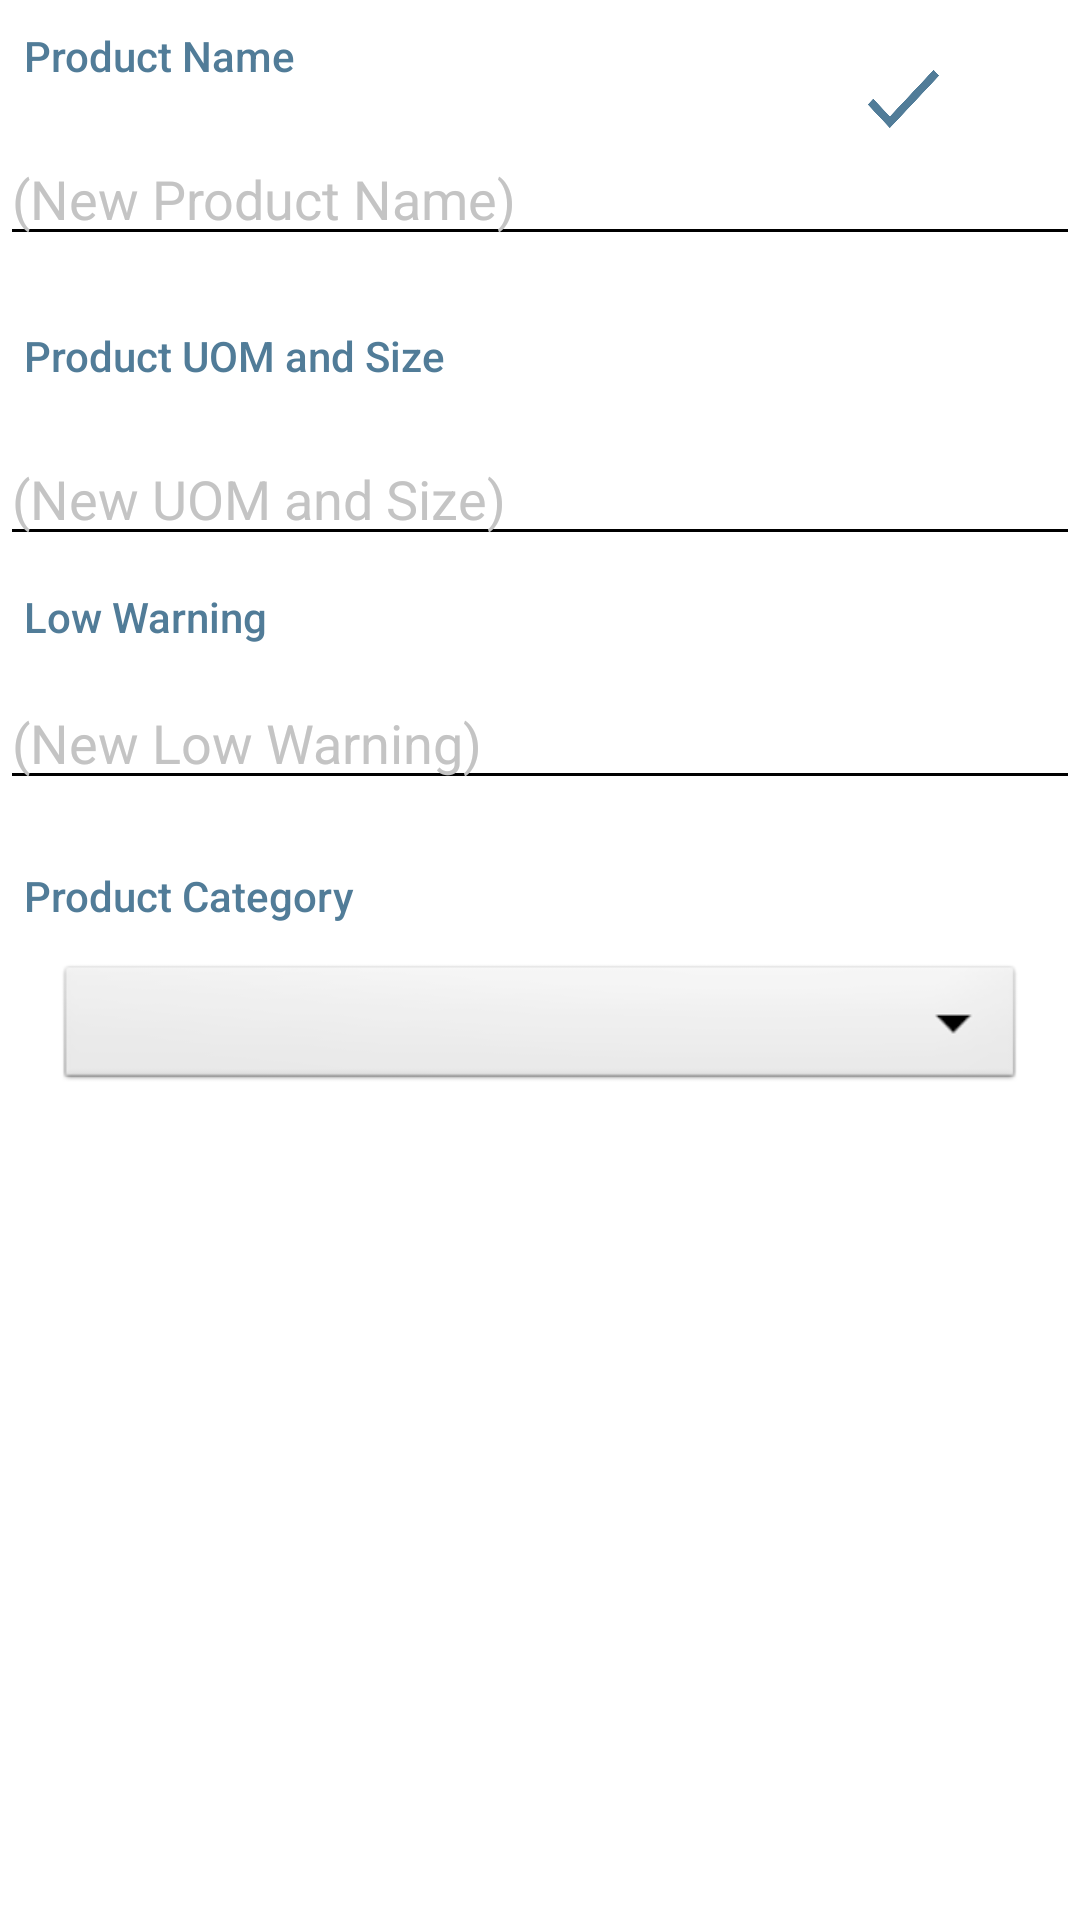

Locate icon controls on the screen. Image size 1080x1920, boxes as [x1, y1, x2, y2].
check: [868, 70, 939, 128]
